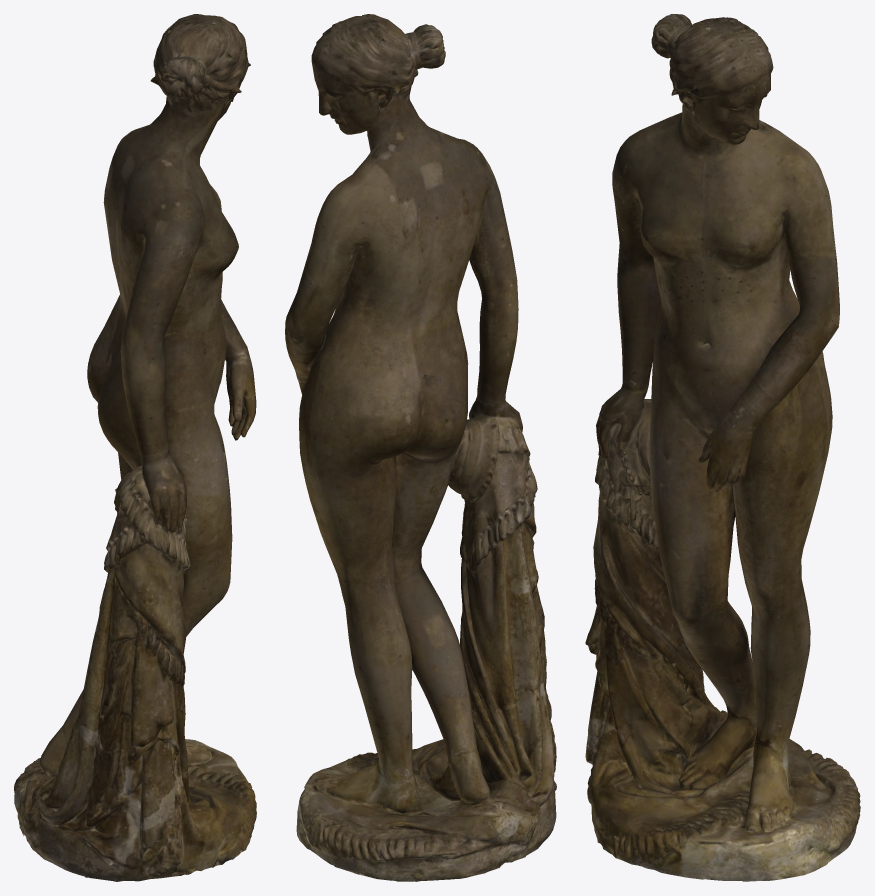
Rendered from l-esclave-grecque-leger.glb.
The picture shows the model from 3 angles, left to right: view 1: azimuth 30°, elevation 25°; view 2: azimuth 150°, elevation 25°; view 3: azimuth 270°, elevation 25°; orthographic projection. The views are drawn at different scales.
Size of the model in its own units: 20.08 by 66.25 by 19.7.
Materials: 1 (1 with a texture image).
